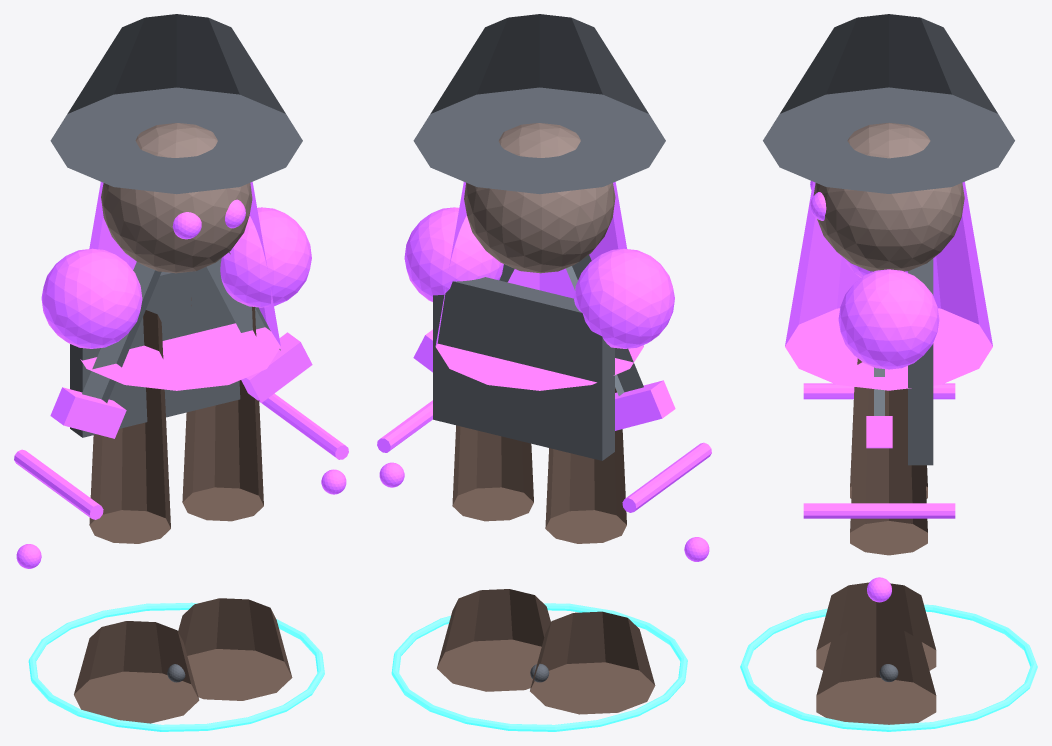
File: shadow-huntress-v2.glb
3 views of the same model, side by side, from view 1: azimuth 30°, elevation 25°; view 2: azimuth 150°, elevation 25°; view 3: azimuth 270°, elevation 25° (orthographic).
Visible parts, largest first — view 1: Hood, Head, Leg_-1, Boot_-1, Torso, Boot_1, Leg_1, Cloak, Shoulder_-1, Shoulder_1, SelectionRing, Dagger_-1_1 (+6 smaller); view 2: Hood, Cloak, Head, Boot_-1, Boot_1, Shoulder_-1, Leg_-1, Leg_1, Torso, Shoulder_1, SelectionRing, Dagger_-1_1 (+3 smaller); view 3: Hood, Torso, Head, Boot_1, Leg_1, Shoulder_1, Boot_-1, SelectionRing, Cloak, Dagger_1_2, Dagger_-1_2, Dagger_1_1 (+1 smaller).
Part boxes in pixels (x1,y1,x2,y2): Hood: [50, 14, 302, 194]; Head: [101, 123, 252, 273]; Leg_-1: [89, 310, 170, 543]; Boot_-1: [74, 621, 199, 723]; Torso: [80, 182, 280, 390]; Boot_1: [171, 598, 292, 700]; Leg_1: [182, 297, 263, 521]; Cloak: [70, 267, 240, 437]; Shoulder_-1: [41, 248, 142, 348]; Shoulder_1: [220, 207, 311, 307]; SelectionRing: [28, 602, 324, 731]; Dagger_-1_1: [50, 387, 126, 438]; Hood: [413, 14, 665, 194]; Cloak: [433, 277, 614, 460]; Head: [464, 123, 615, 273]; Boot_-1: [530, 611, 655, 714]; Boot_1: [437, 589, 560, 691]; Shoulder_-1: [574, 248, 674, 348]; Leg_-1: [545, 387, 626, 543]; Leg_1: [452, 425, 533, 521]; Torso: [435, 182, 643, 390]; Shoulder_1: [404, 207, 503, 301]; SelectionRing: [391, 603, 687, 731]; Dagger_-1_1: [615, 380, 675, 430]; Hood: [763, 14, 1014, 193]; Torso: [785, 181, 992, 390]; Head: [813, 122, 964, 271]; Boot_1: [816, 627, 936, 724]; Leg_1: [850, 358, 927, 555]; Shoulder_1: [838, 269, 939, 369]; Boot_-1: [816, 582, 936, 685]; SelectionRing: [740, 604, 1037, 731]; Cloak: [908, 258, 933, 465]; Dagger_1_2: [803, 503, 955, 518]; Dagger_-1_2: [803, 383, 955, 399]; Dagger_1_1: [866, 416, 892, 448].
Size of the model in its own units: 1.19 by 2.24 by 0.944.
